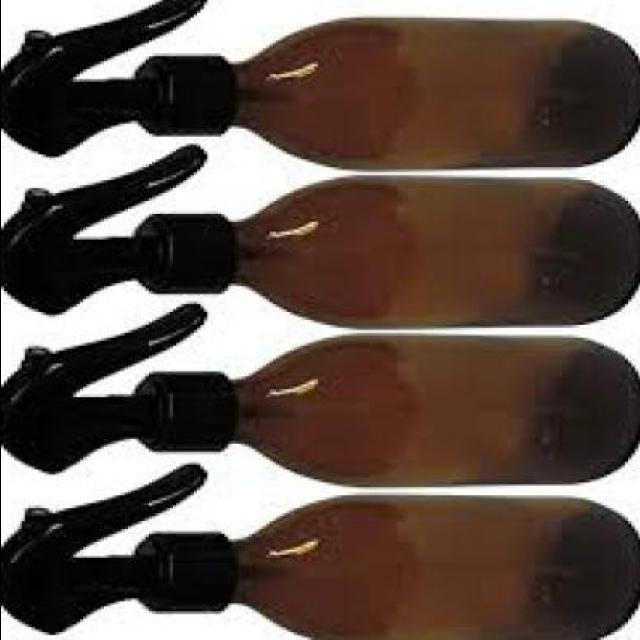kaca: (223, 329, 640, 485), (226, 17, 640, 170), (232, 172, 638, 325), (220, 493, 639, 640)
